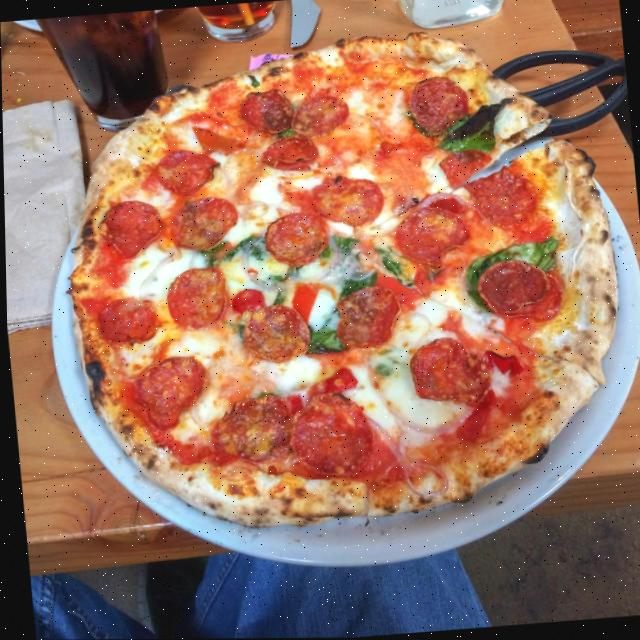basil: (460, 231, 562, 307), (404, 98, 508, 158), (325, 224, 402, 295), (192, 234, 276, 277), (244, 261, 303, 308), (304, 317, 343, 357), (372, 350, 396, 379), (220, 318, 246, 344)
pepperoni: (283, 384, 379, 481), (402, 332, 517, 409), (201, 391, 300, 473), (122, 353, 212, 437), (227, 282, 308, 363), (474, 254, 560, 326), (390, 204, 472, 271), (158, 263, 229, 333), (159, 194, 239, 255), (331, 285, 402, 350), (463, 170, 545, 226), (260, 205, 331, 269), (94, 195, 163, 258), (310, 172, 385, 229), (150, 143, 222, 200), (405, 74, 472, 135), (91, 293, 159, 347), (286, 89, 352, 137), (256, 129, 320, 175), (240, 86, 295, 138), (439, 146, 494, 186)
pizza: (48, 21, 633, 540)
